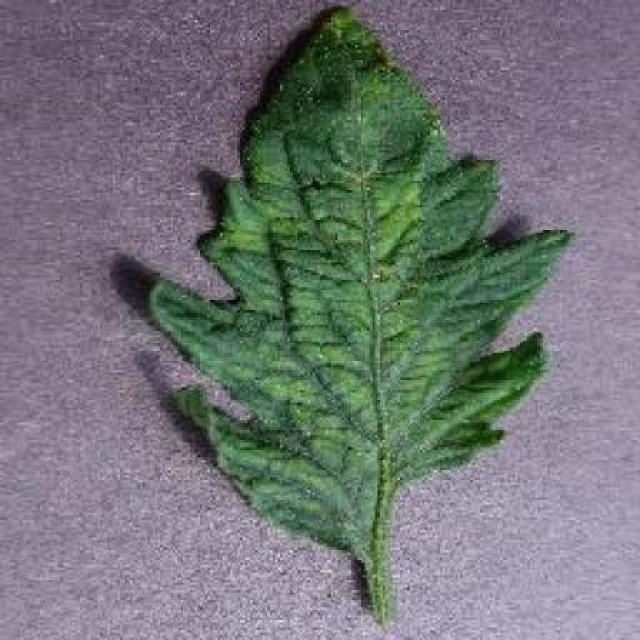Mosaic Virus: (144, 7, 577, 562)
